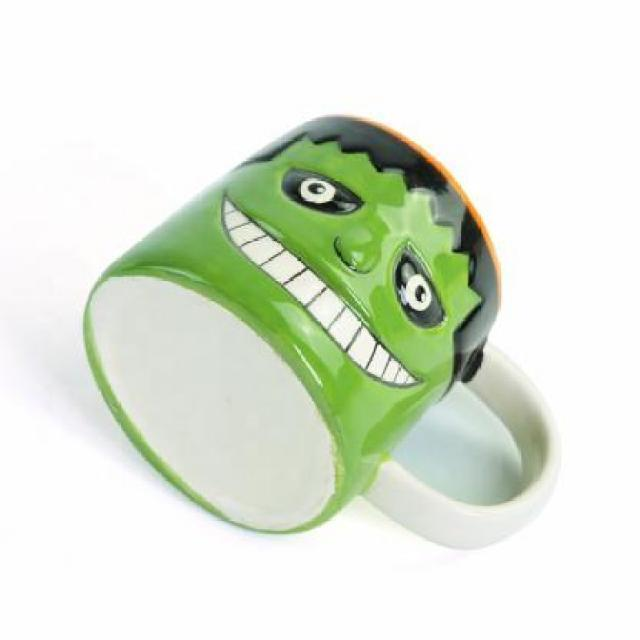taza: (80, 112, 560, 554)
